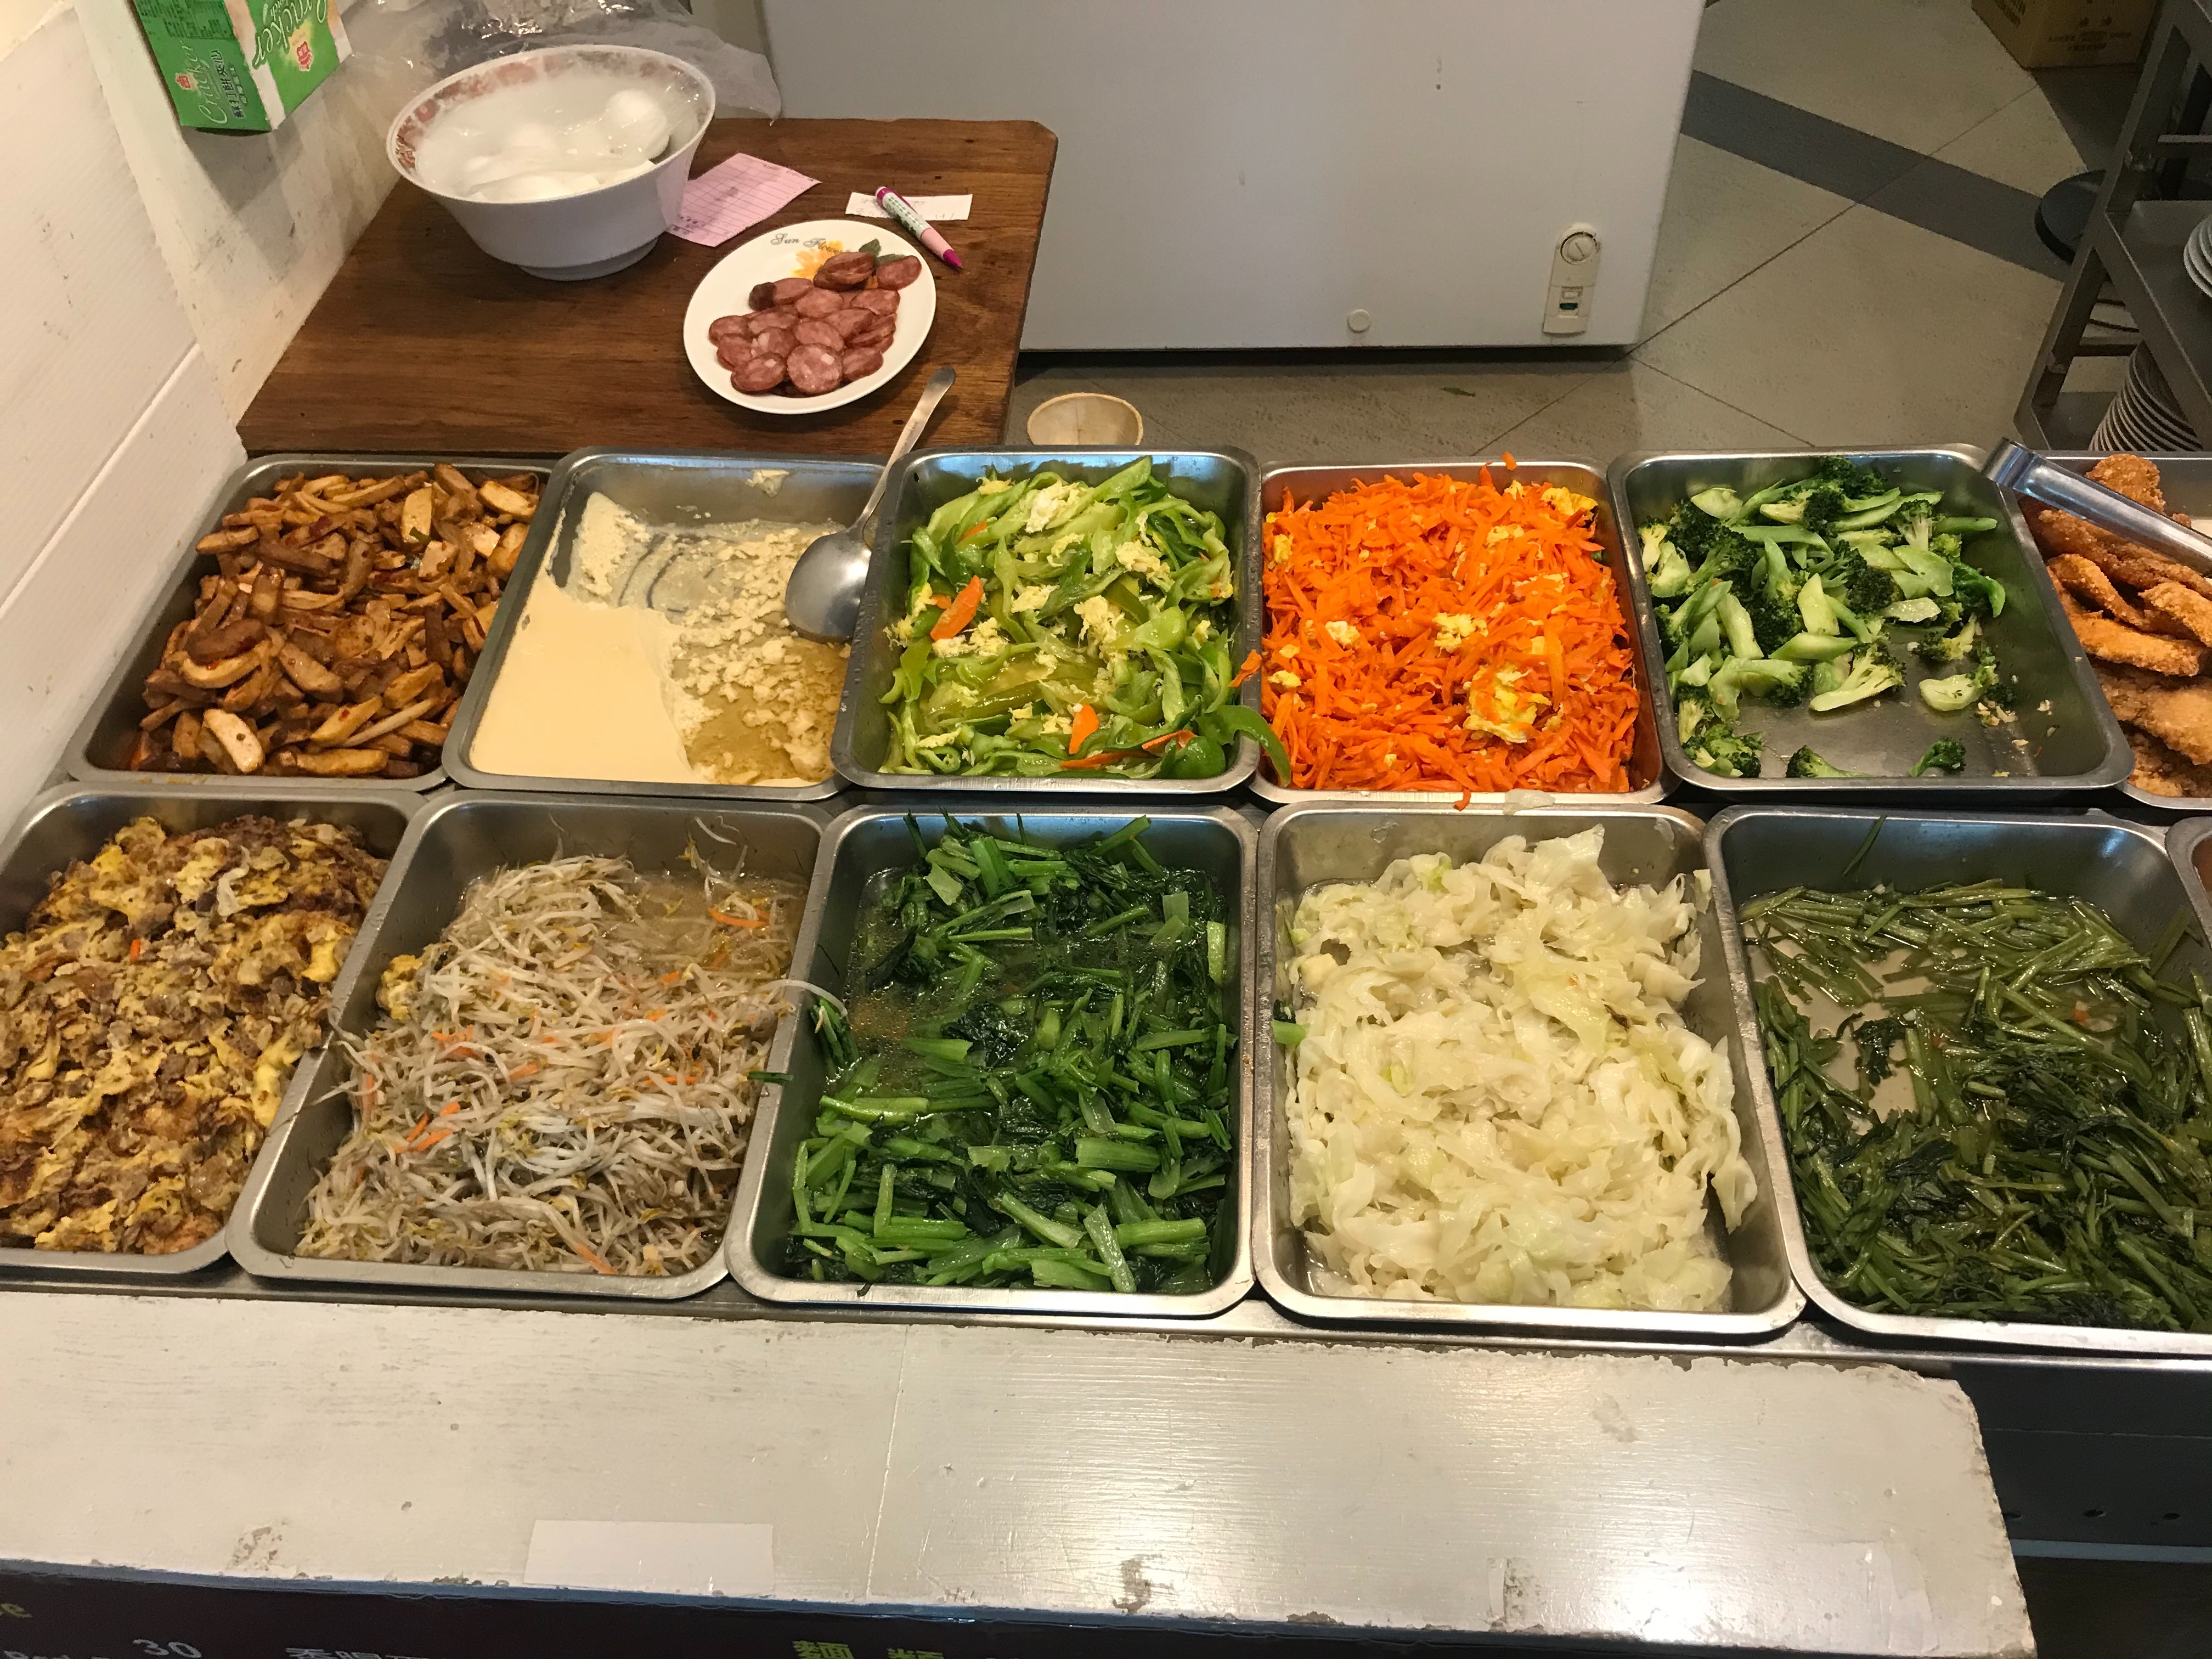carrot_eggs: (1280, 491, 1629, 777)
chinese_cabbage: (1294, 894, 1723, 1305)
chinese_sausage: (721, 244, 895, 389)
fried_chicken: (2101, 579, 2209, 763)
mung_bean_sprouts: (421, 854, 718, 1269)
water_spinach: (1766, 904, 2212, 1319)
